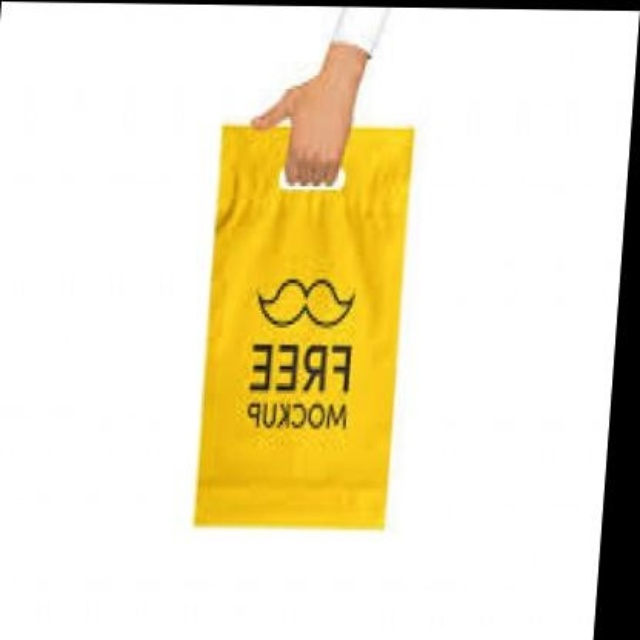trash: (195, 126, 412, 528)
